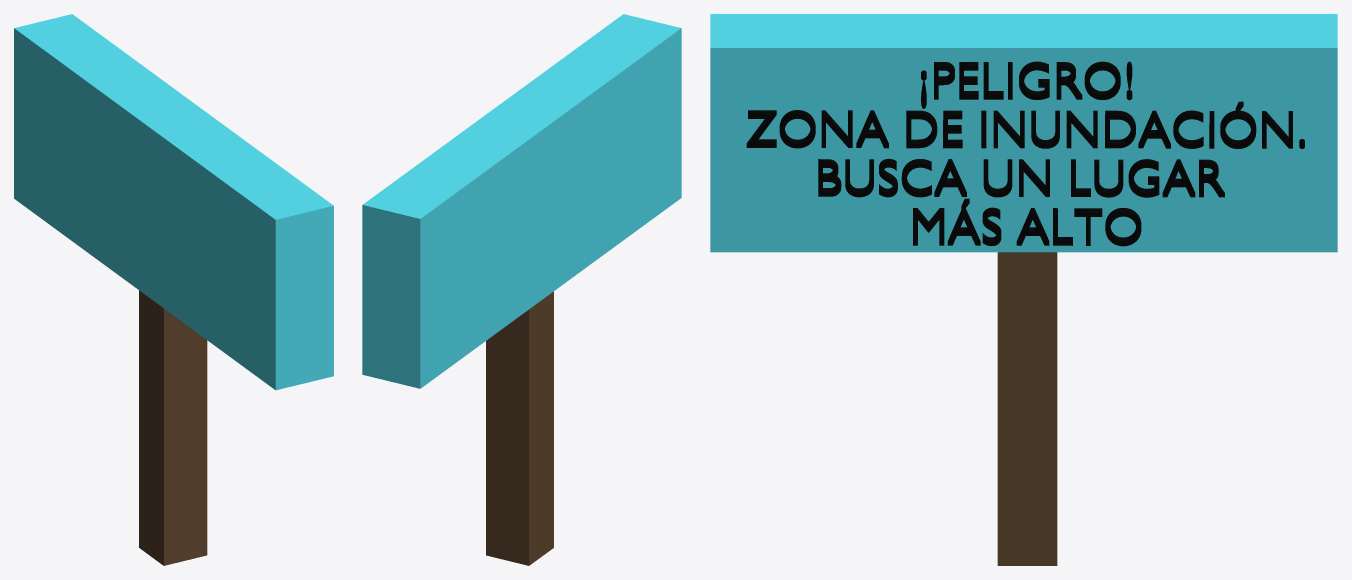
Rendered from ZonaInundacion.glb.
The picture shows the model from 3 angles, left to right: view 1: azimuth 30°, elevation 25°; view 2: azimuth 150°, elevation 25°; view 3: azimuth 270°, elevation 25°; orthographic projection. The views are drawn at different scales.
Visible parts, largest first — view 1: Cubo.010, Cubo.011; view 2: Cubo.010, Cubo.011; view 3: Cubo.010, Texto.004, Cubo.011.
Boxes of the visible parts, x1,y1,x2,y2 form: Cubo.010: (14,14,333,390); Cubo.011: (139,290,207,565); Cubo.010: (362,14,681,388); Cubo.011: (486,291,553,565); Cubo.010: (710,14,1337,252); Texto.004: (746,61,1304,246); Cubo.011: (997,252,1057,565).
Size of the model in its own units: 0.4683 by 2.96 by 3.22.
